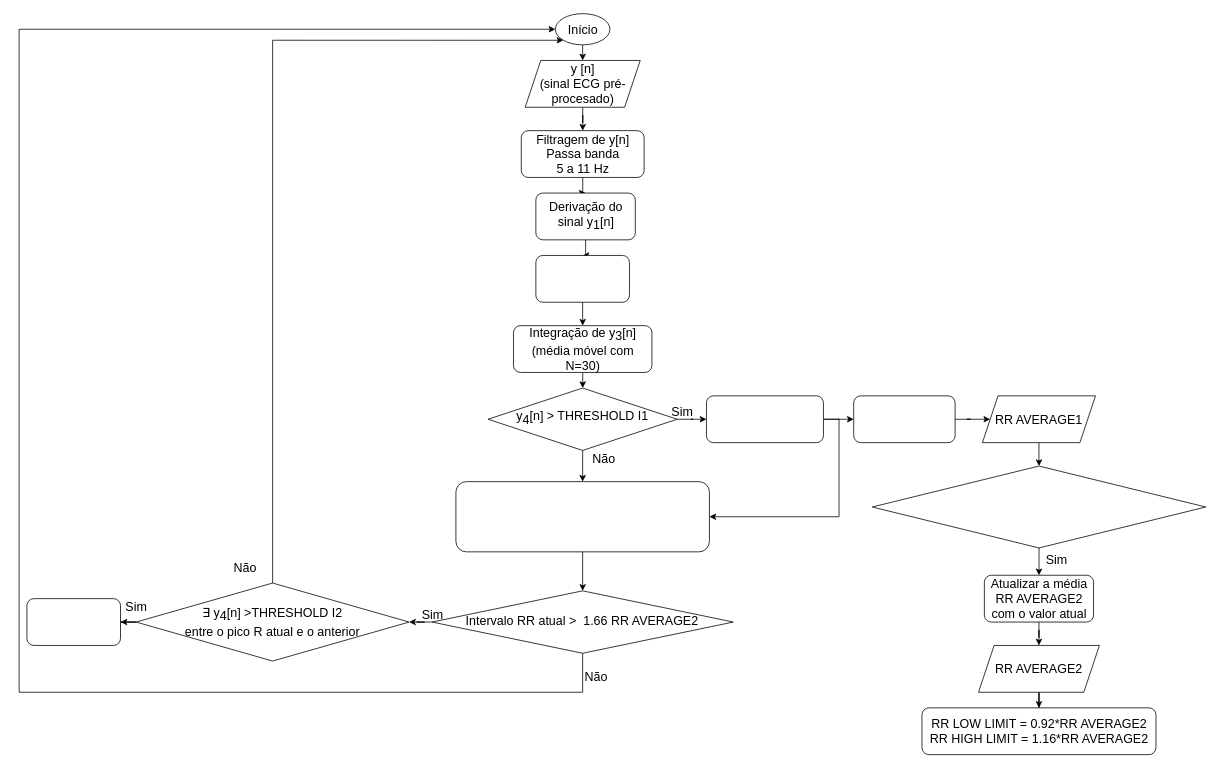
Some shapes in this 1220 by 768 pixel diagram are drawn without their labels. Here are the shapes that lost their labels. From the top down, the centre of each, then its label:
[582,278]: y 2 [n] 2
[764,419]: Guardar posição do evento duração do intervalo RR
[904,419]: Atualizar a média RR AVERAGE1 com o valor atual
[582,516]: THRESHOLD I1 = NPKI + 0.25(SPKI –NPKI) THRESHOLD I2 = 0.5 THRESHOLD I1
[1038,506]: RR LOW LIMIT<RR AVERAGE1<RR HIGH LIMIT
[73,621]: Guardar posição do evento
